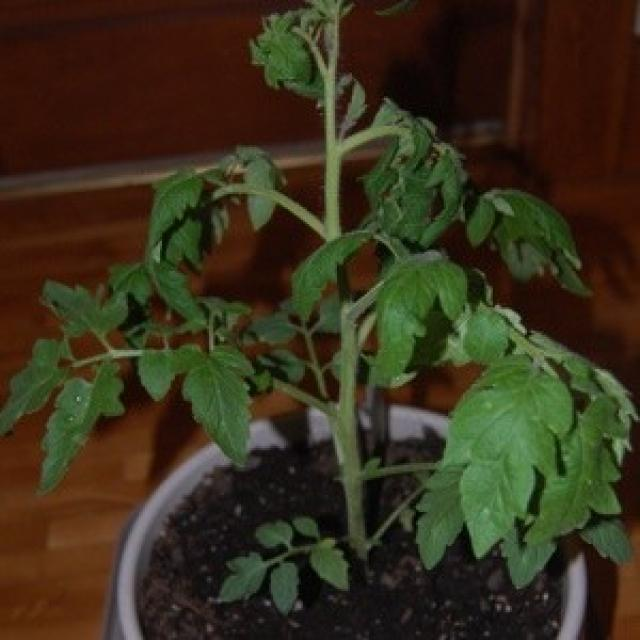Healthy Leaf: (442, 353, 574, 561), (182, 342, 253, 469)
